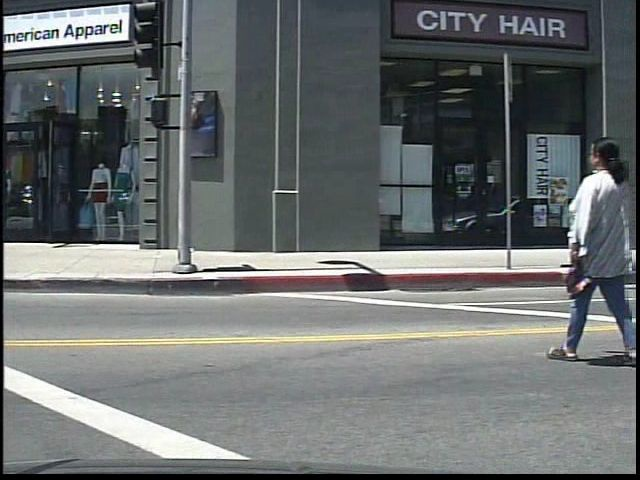person: (555, 119, 634, 369)
